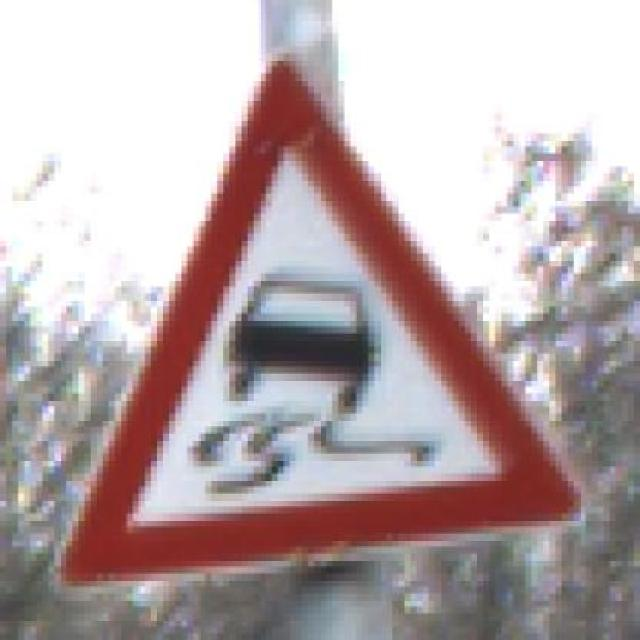Slippery Road Ahead: (48, 39, 586, 587)
